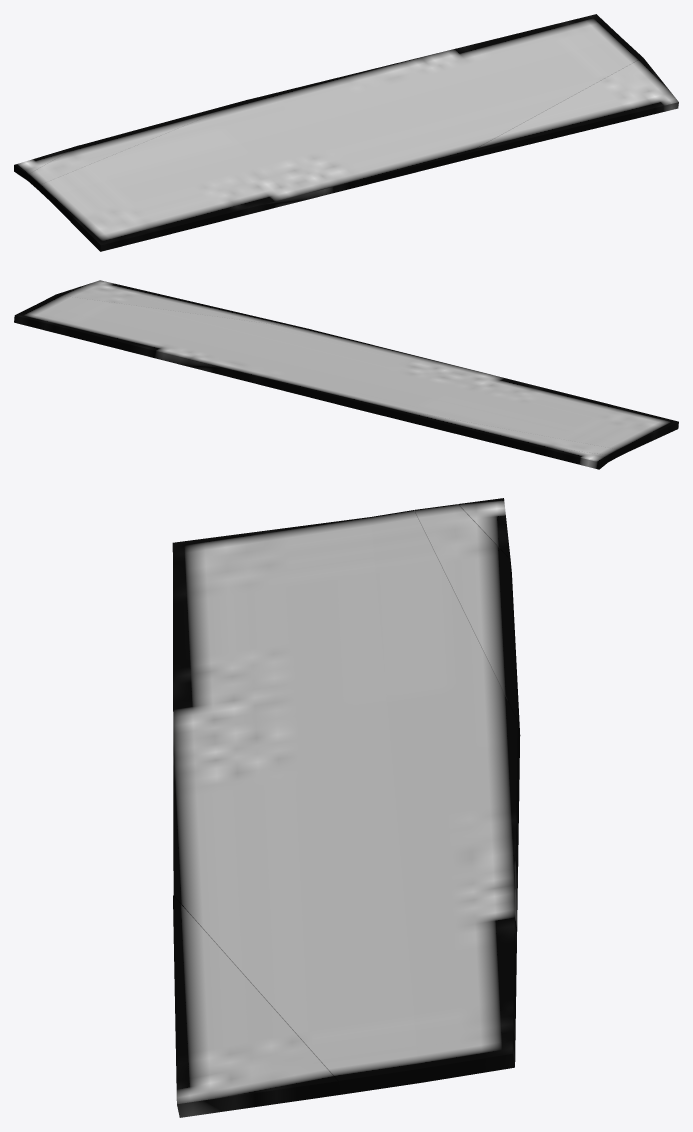
The model's file is rightInnerSpoiler.dae.
3 renders of one model, top to bottom at view 1: azimuth 30°, elevation 25°; view 2: azimuth 150°, elevation 25°; view 3: azimuth 270°, elevation 25°, orthographic. The views are drawn at different scales.
Visible parts, largest first — view 1: SketchUp; view 2: SketchUp; view 3: SketchUp.
Part boxes in pixels (x1=…): SketchUp: x1=14, y1=14, x2=678, y2=251; SketchUp: x1=14, y1=280, x2=678, y2=469; SketchUp: x1=172, y1=498, x2=520, y2=1117.
Bounding box in the file's own units: 104 × 26.63 × 5.77.
1 material, 1 textured.
